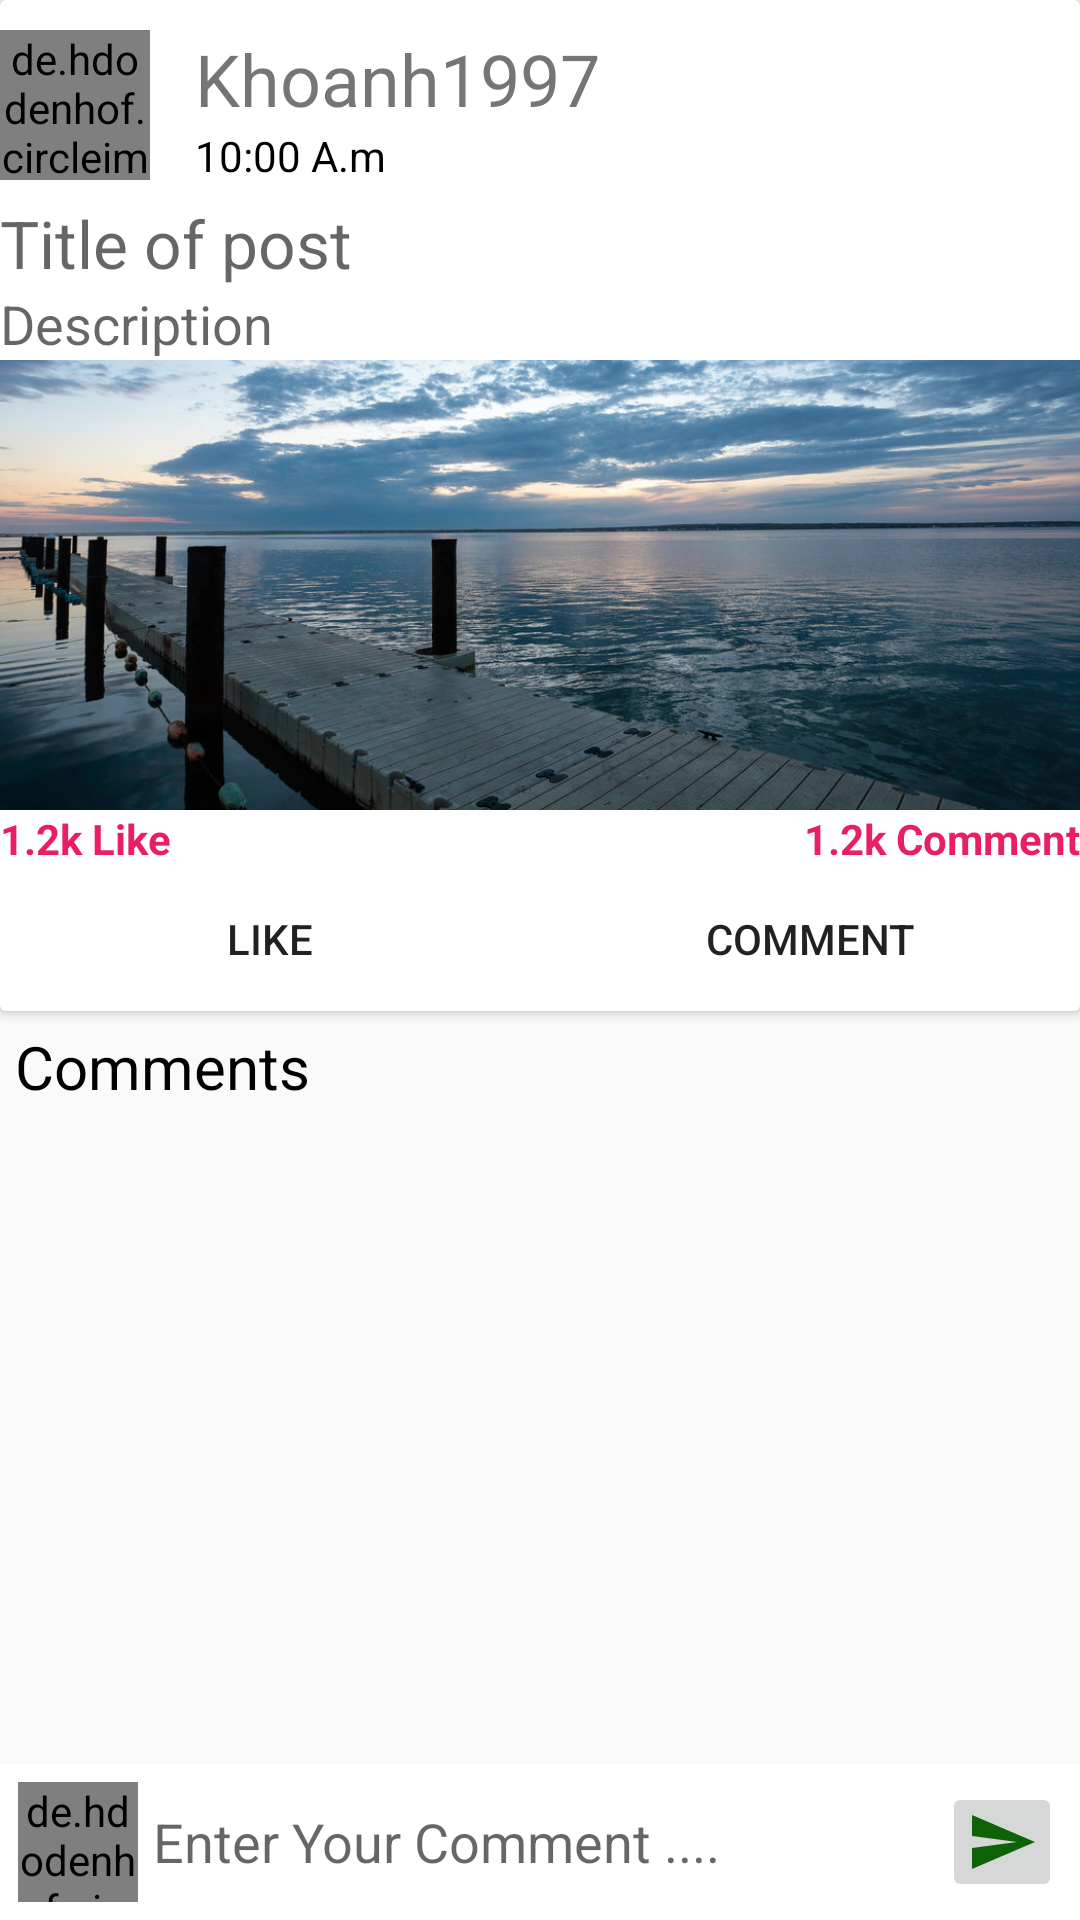

Named icons in this screenshot (1080*1920) and their bounding boxes, (x1, y1, x2, y2):
send: (954, 1800, 1050, 1884)
